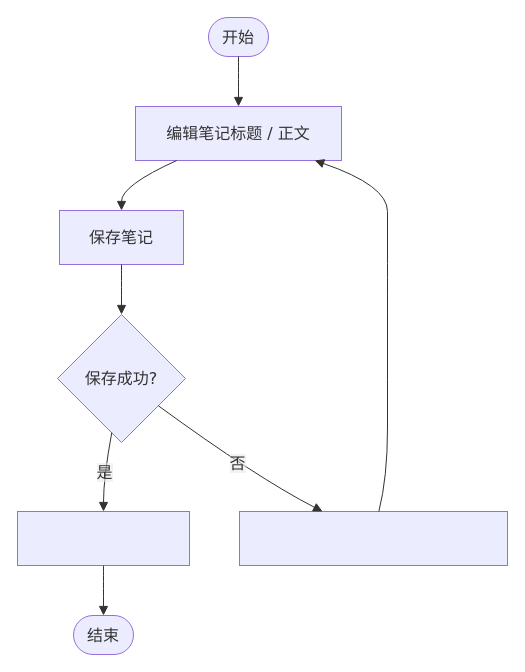
The diagram is 525 pixels wide and 672 high, and some of its shapes have lost their labels. Each missing label, with the centre of its shape:
提示「已保存」: the point at 103,538
提示保存失败，保留编辑内容: the point at 373,538
